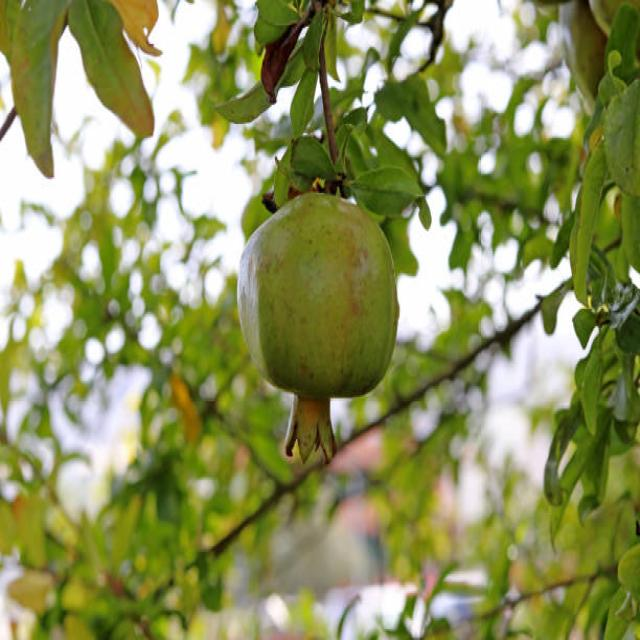Unripe: (235, 189, 400, 472)
